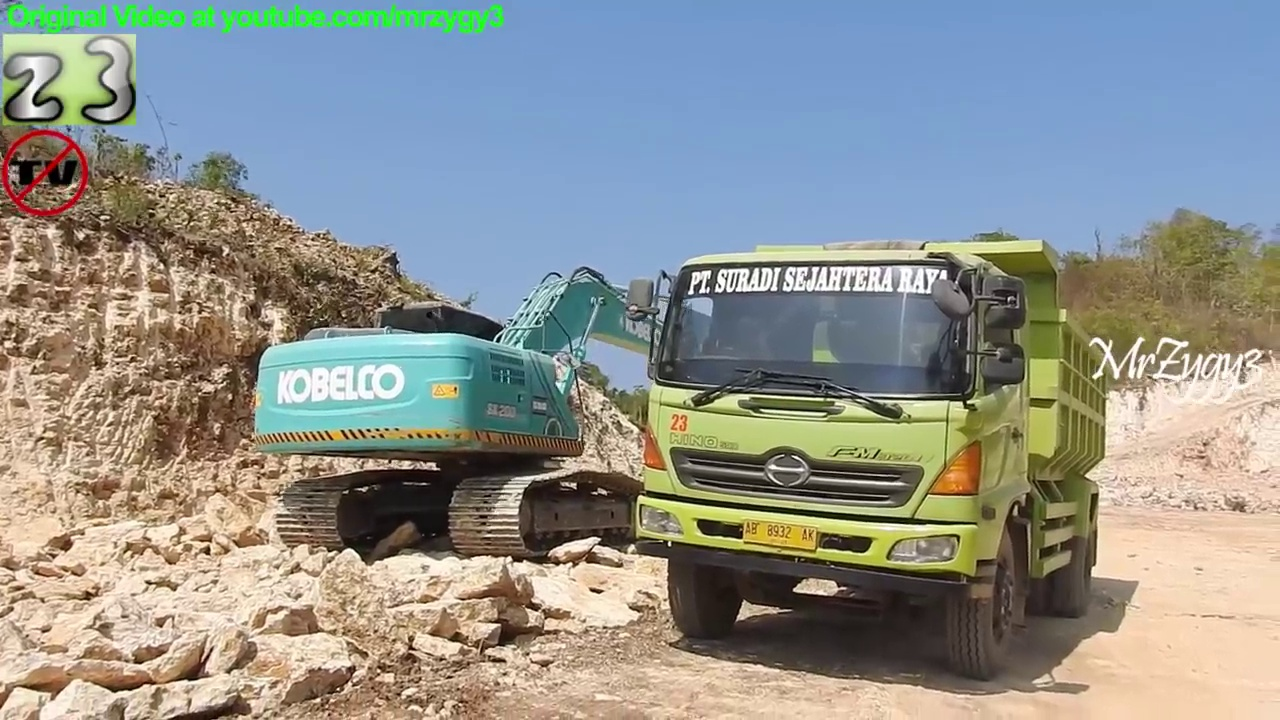excavator: (241, 258, 955, 574)
truck: (620, 233, 1117, 686)
